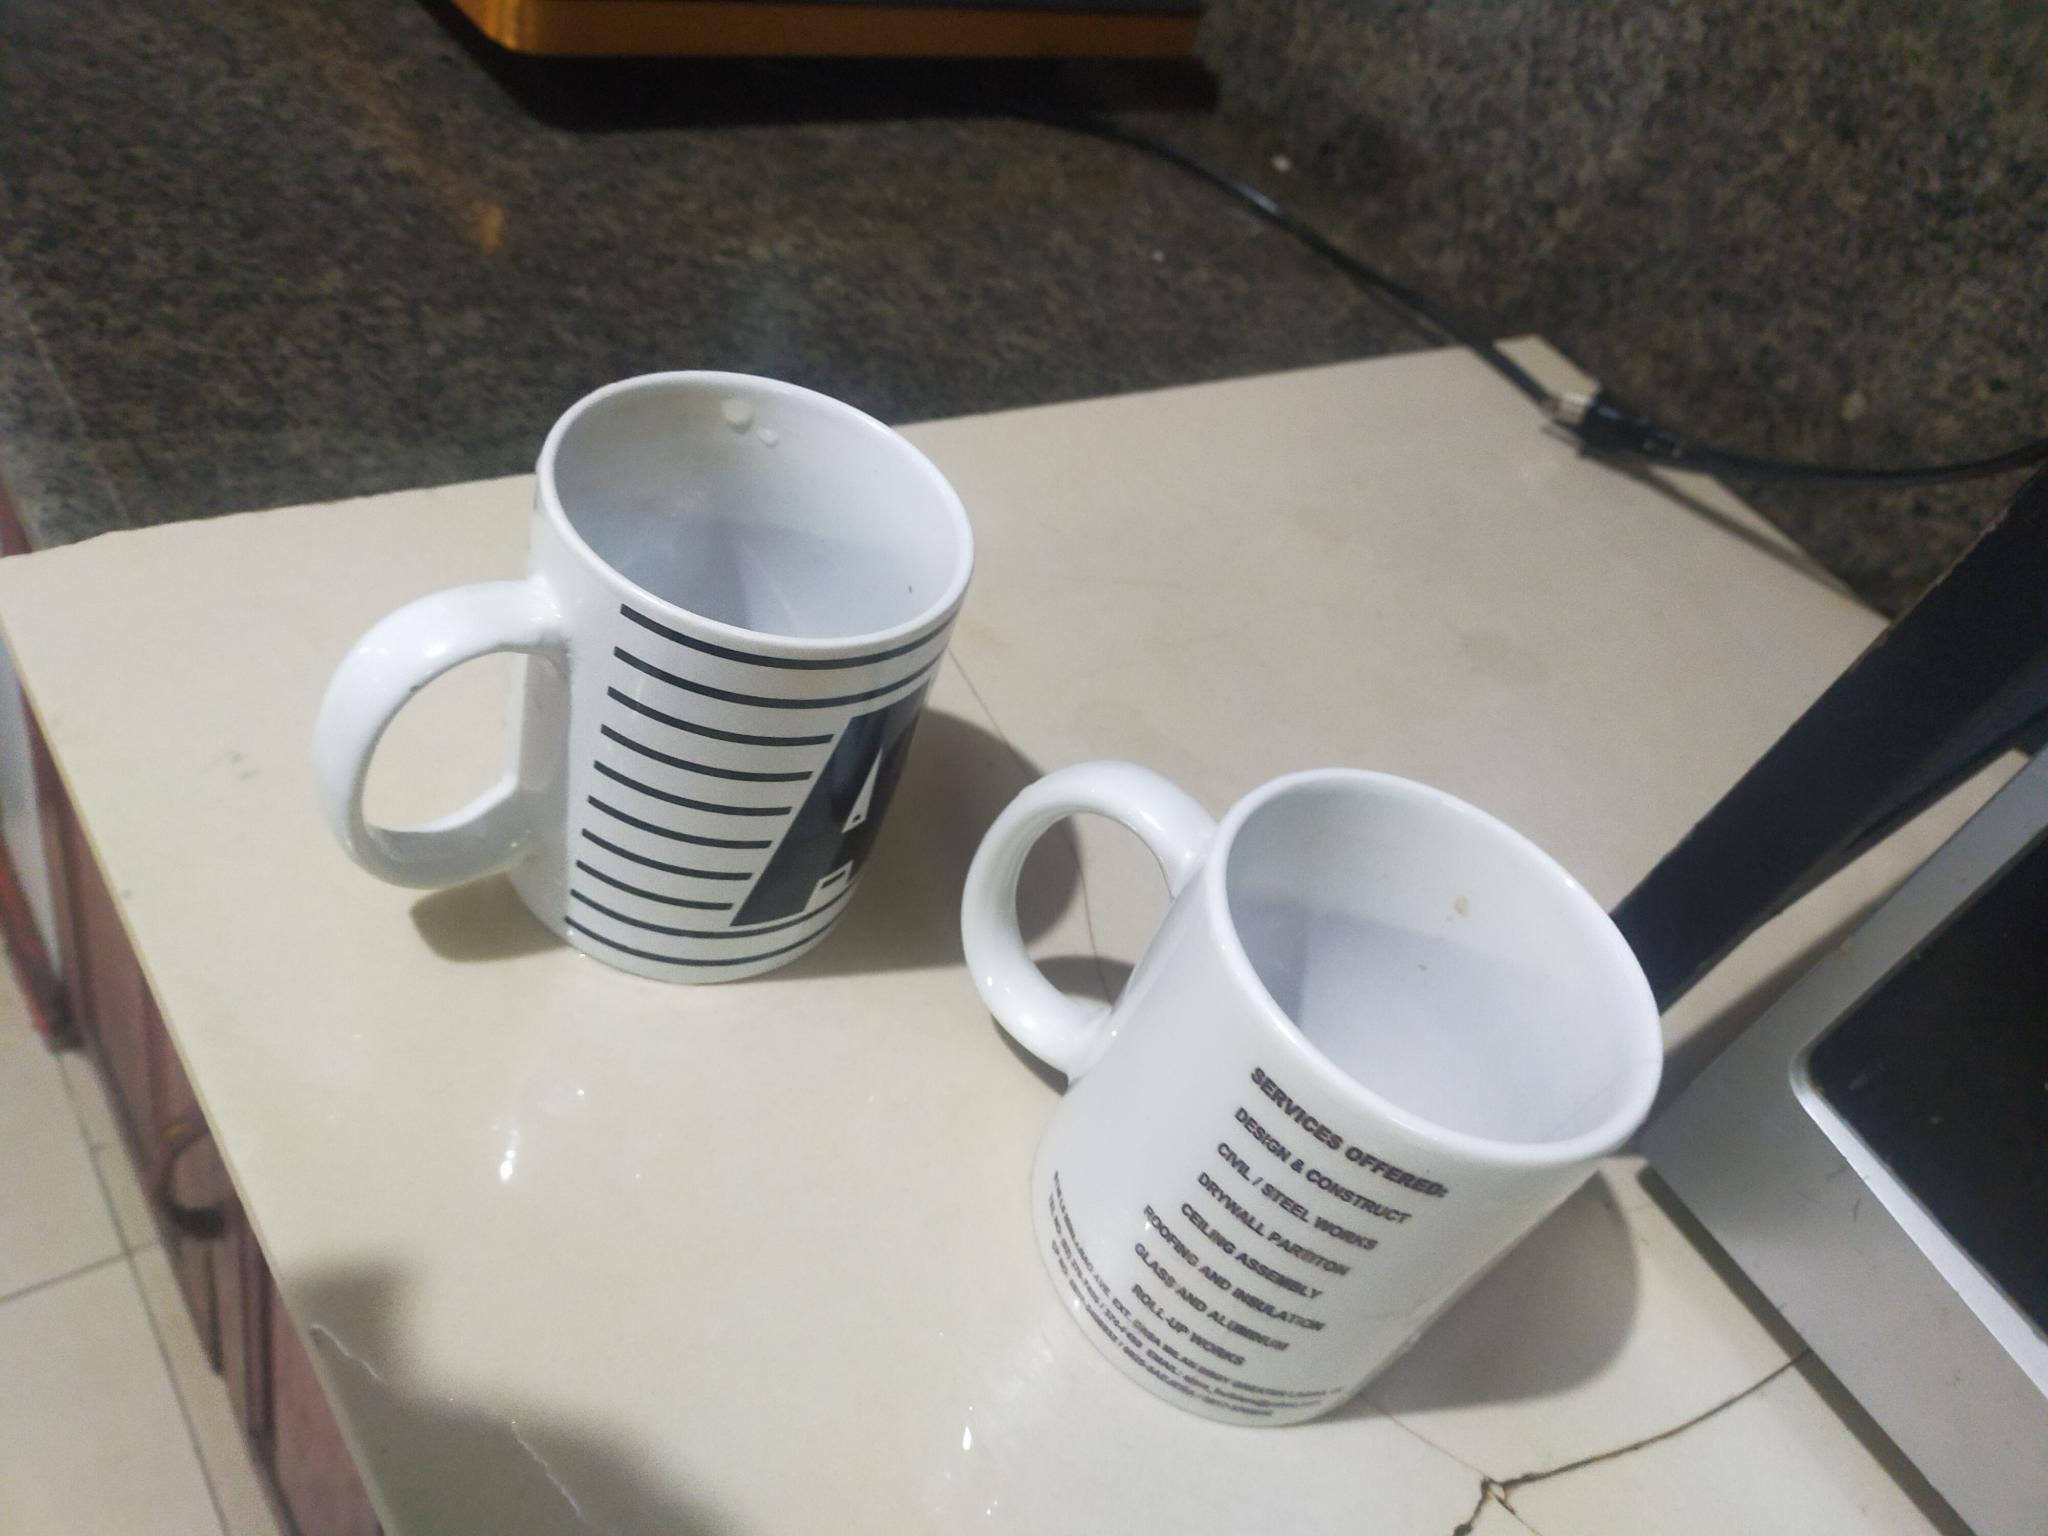Coffee Mug: (959, 753, 1666, 1428), (323, 368, 972, 978)
